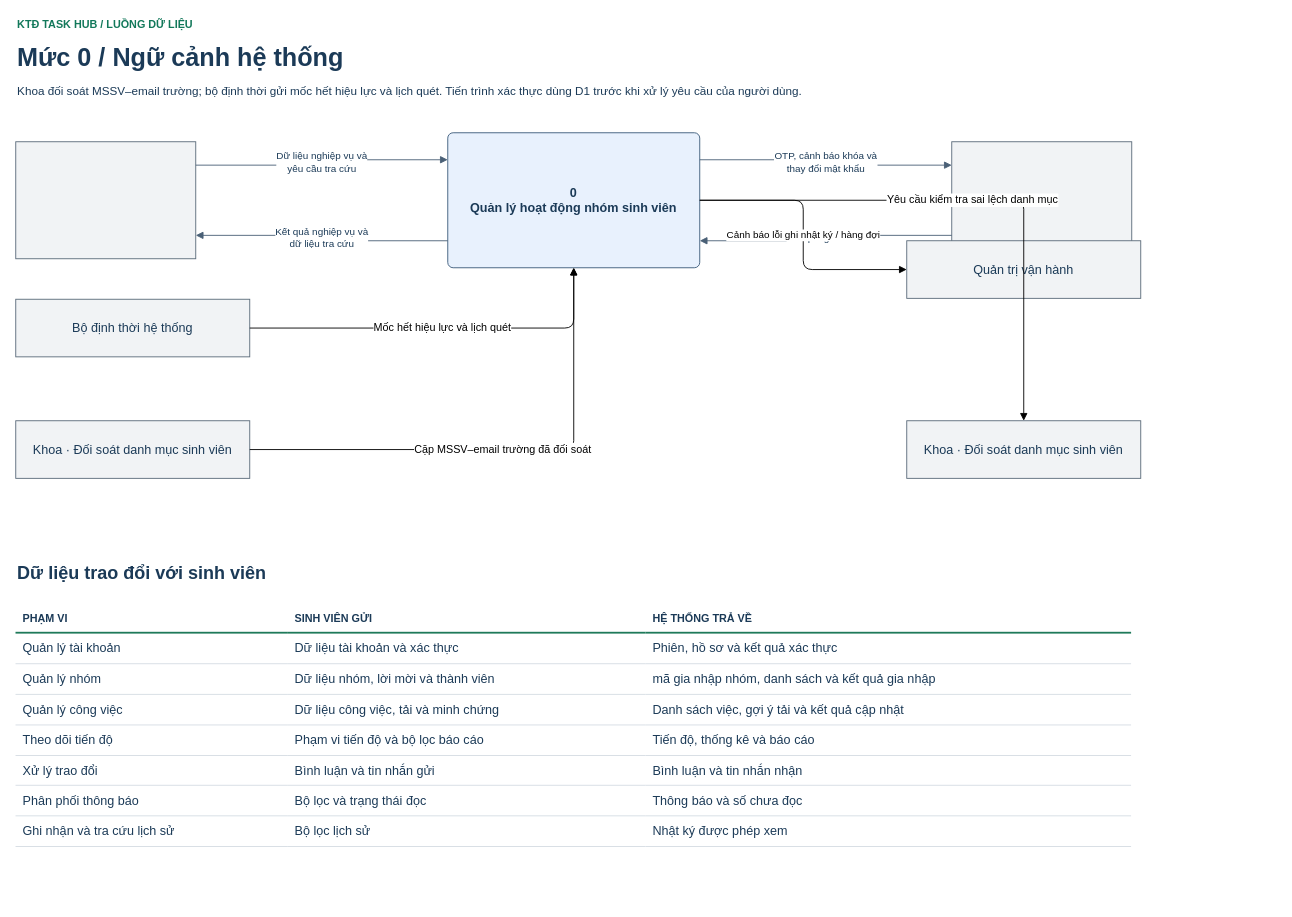
The diagram is 1292 pixels wide and 917 high, and some of its shapes have lost their labels. The box of each missing label's shape, as (x1, y1, x2, y2) in pixels:
Dịch vụ email: (951, 141, 1132, 259)
Sinh viên: (15, 141, 196, 259)
